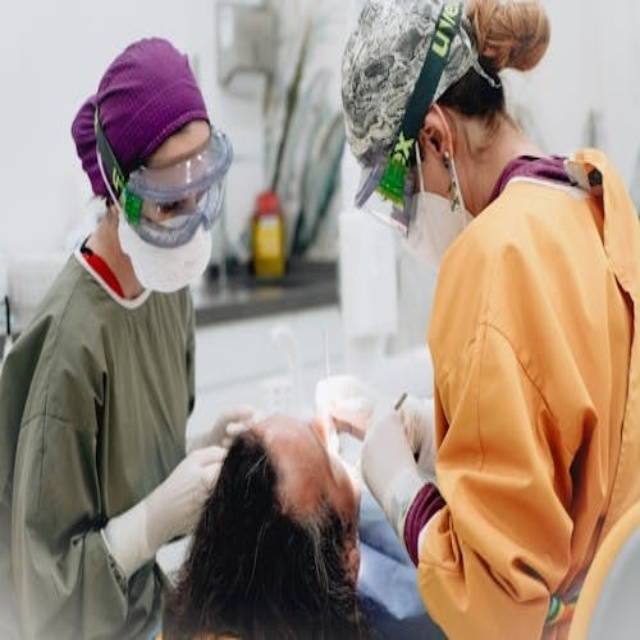Gafas: (339, 4, 453, 258), (104, 129, 242, 254)
Guantes: (99, 438, 238, 580), (353, 396, 434, 540)
Mascara: (392, 119, 476, 294), (110, 196, 214, 311)
